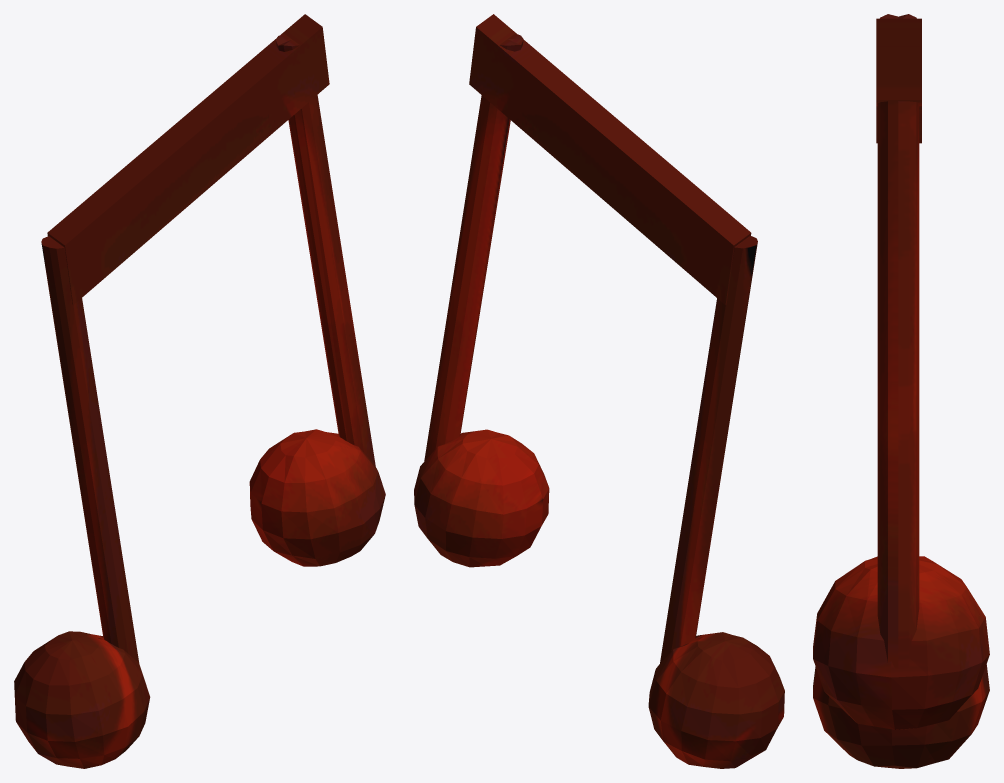
Rendered from HeadNote.glb.
The picture shows the model from 3 angles, left to right: view 1: azimuth 30°, elevation 25°; view 2: azimuth 150°, elevation 25°; view 3: azimuth 270°, elevation 25°; orthographic projection. The views are drawn at different scales.
Parts seen in each view (by area): view 1: HeadNote; view 2: HeadNote; view 3: HeadNote.
Part boxes in pixels (x1,y1,x2,y2): HeadNote: (14, 14, 385, 768); HeadNote: (414, 14, 784, 768); HeadNote: (813, 14, 989, 768).
Bounding box in the file's own units: 178 × 329 × 59.12.
Materials: 1 (1 with a texture image).
